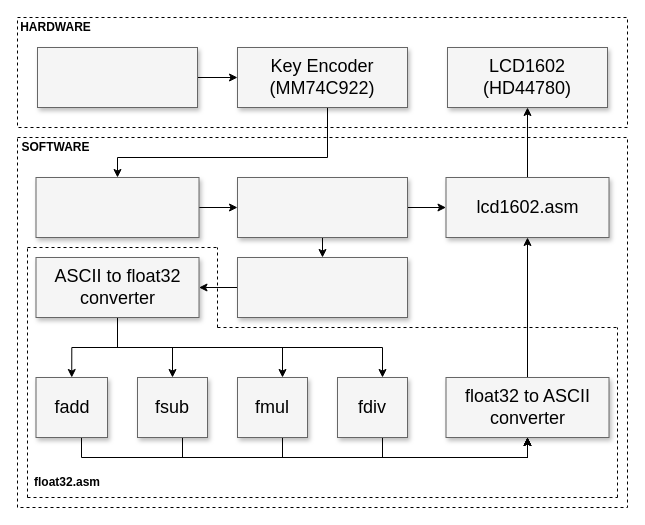
This 645x525 diagram has some shape labels left out. The centre of each missing label's shape, as x and y in pixels:
Encoder 4-bit code to ASCII converter: the point at 118,208
Input FSM parser: the point at 323,208
Keyboard 4x4: the point at 118,78
RAM: the point at 323,288
